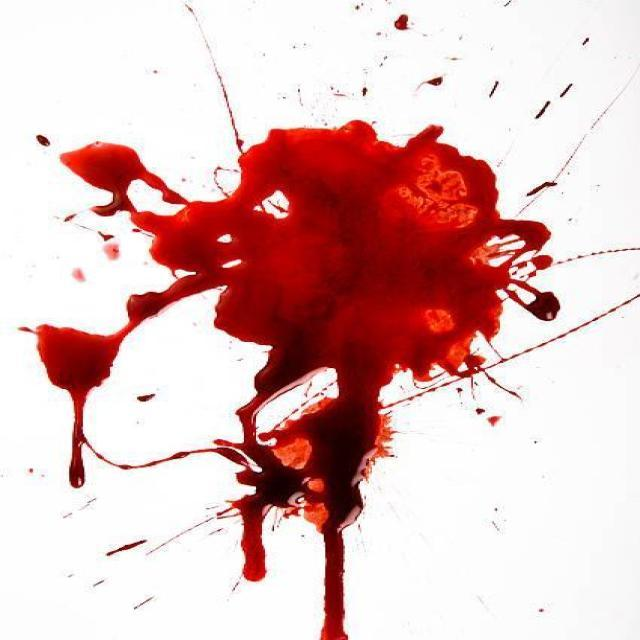flood: (45, 102, 557, 396), (216, 402, 389, 640)
